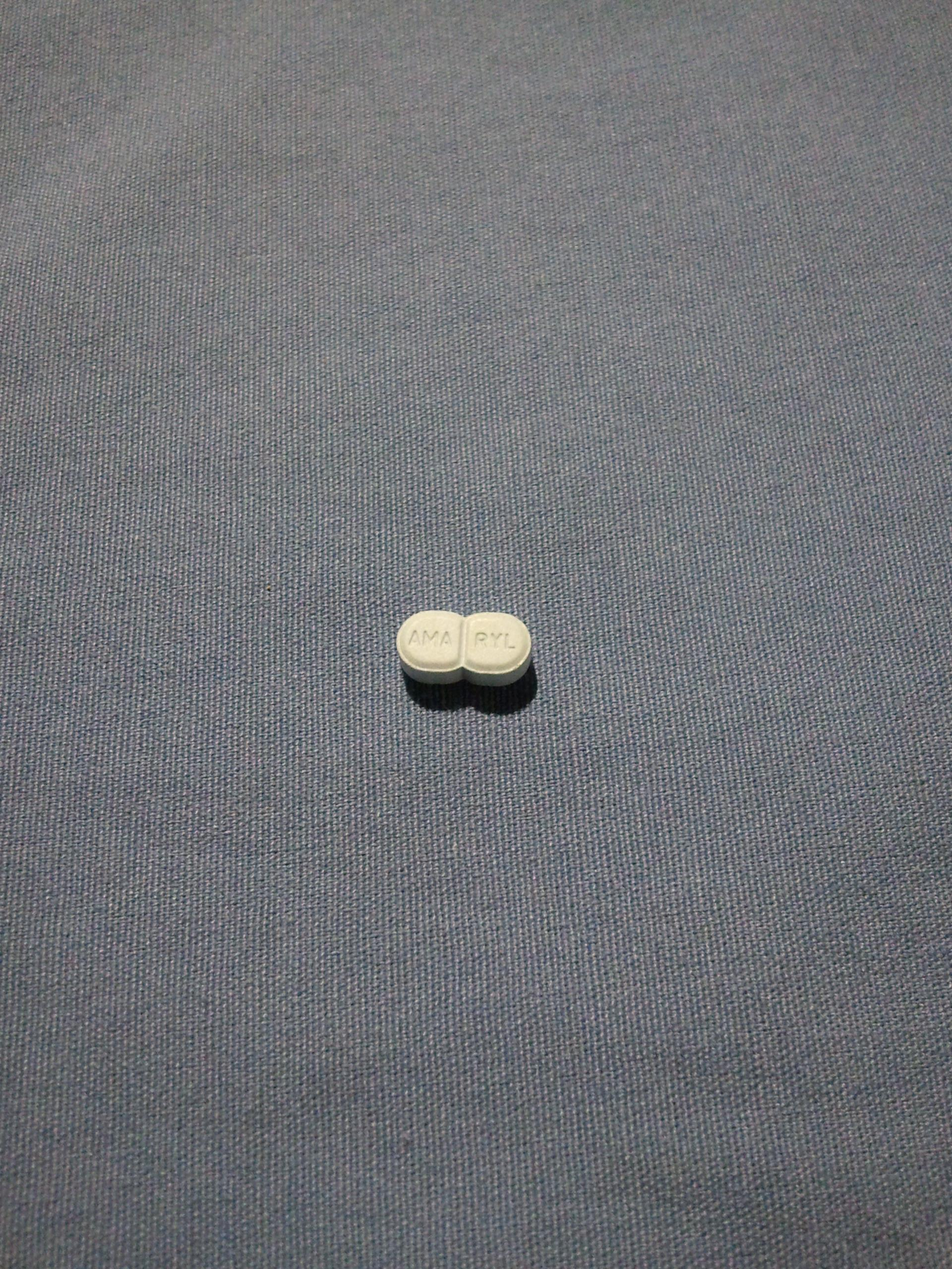Pill: (379, 597, 546, 707)
